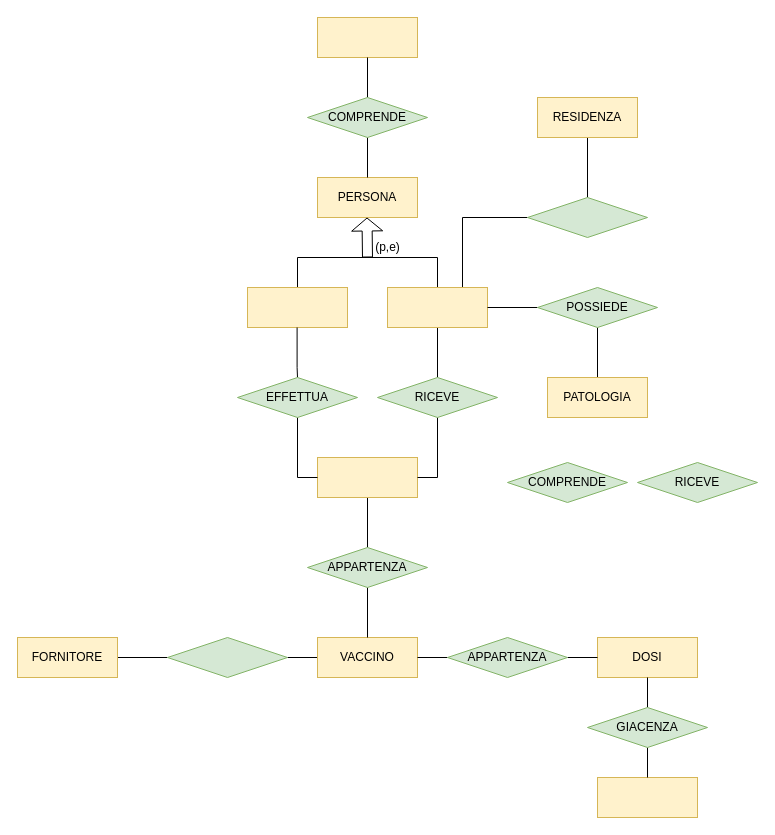
Some shapes in this 775 by 835 pixel diagram are drawn without their labels. The centre of each missing label's shape, as x and y in pixels:
"FORNISCE" goes at (x=227, y=657).
"INFERMIERE" goes at (x=297, y=307).
"MAGAZZINO" goes at (x=647, y=797).
"OSPEDALE" goes at (x=367, y=37).
"PAZIENTE" goes at (x=437, y=307).
"RISIEDE" goes at (x=587, y=217).
"VACCINAZIONE" goes at (x=367, y=477).
